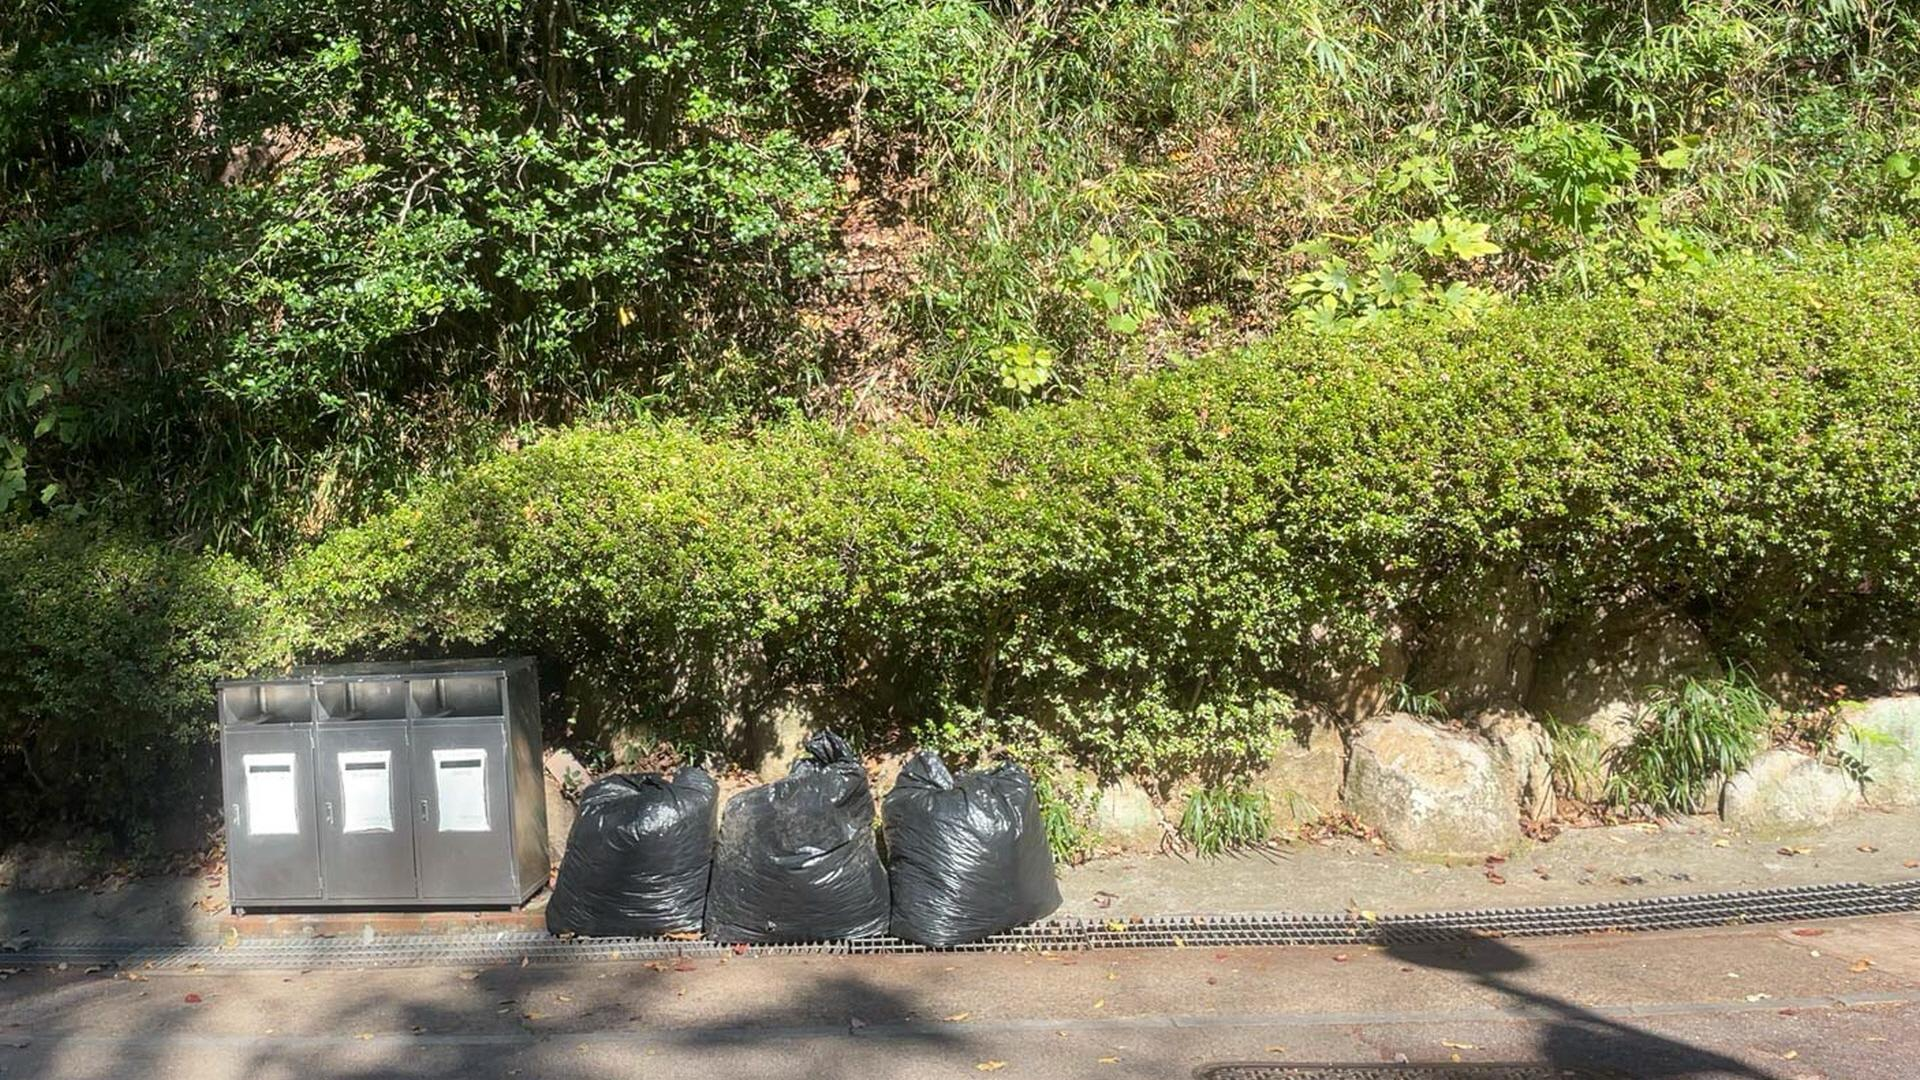black_bag: (707, 725, 894, 953), (874, 746, 1068, 947), (539, 761, 717, 942)
